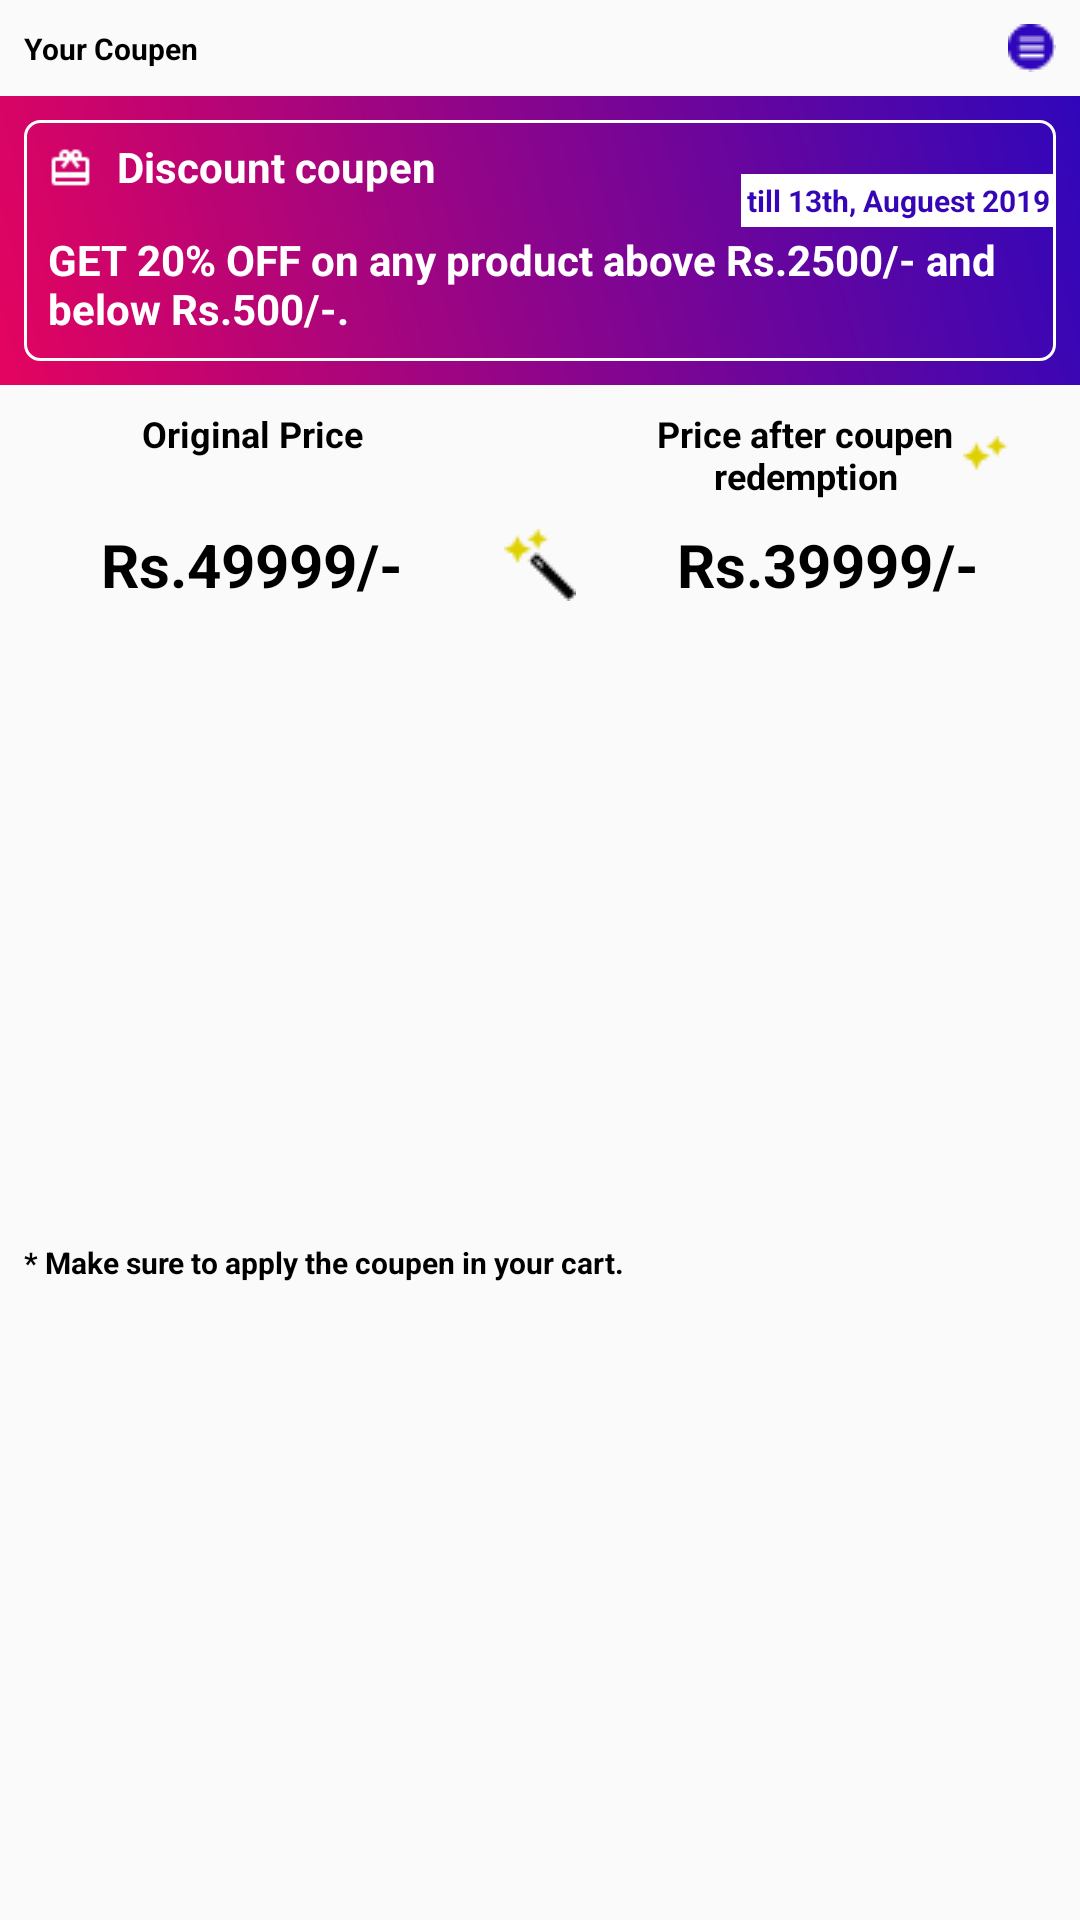

Named icons in this screenshot (1080w x 1920h) and their bounding boxes, rect(x1, y1, x2, y2):
magic stick: rect(504, 529, 576, 601)
rewards: rect(51, 149, 90, 186)
